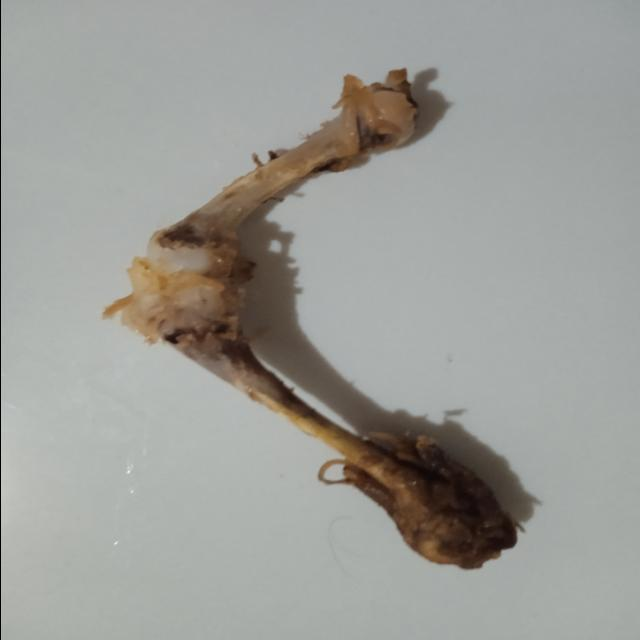bone: (85, 59, 537, 581)
